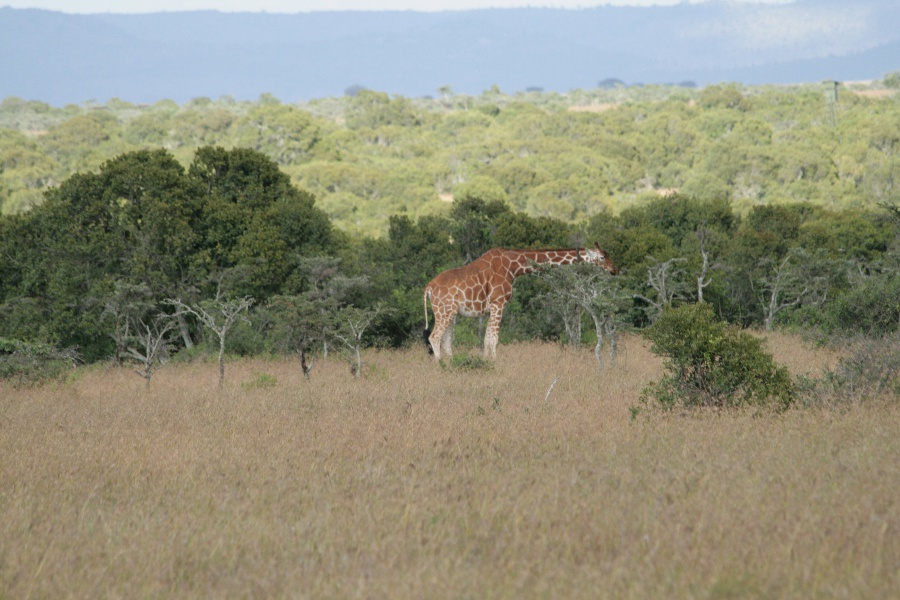giraffe: (418, 234, 622, 369)
